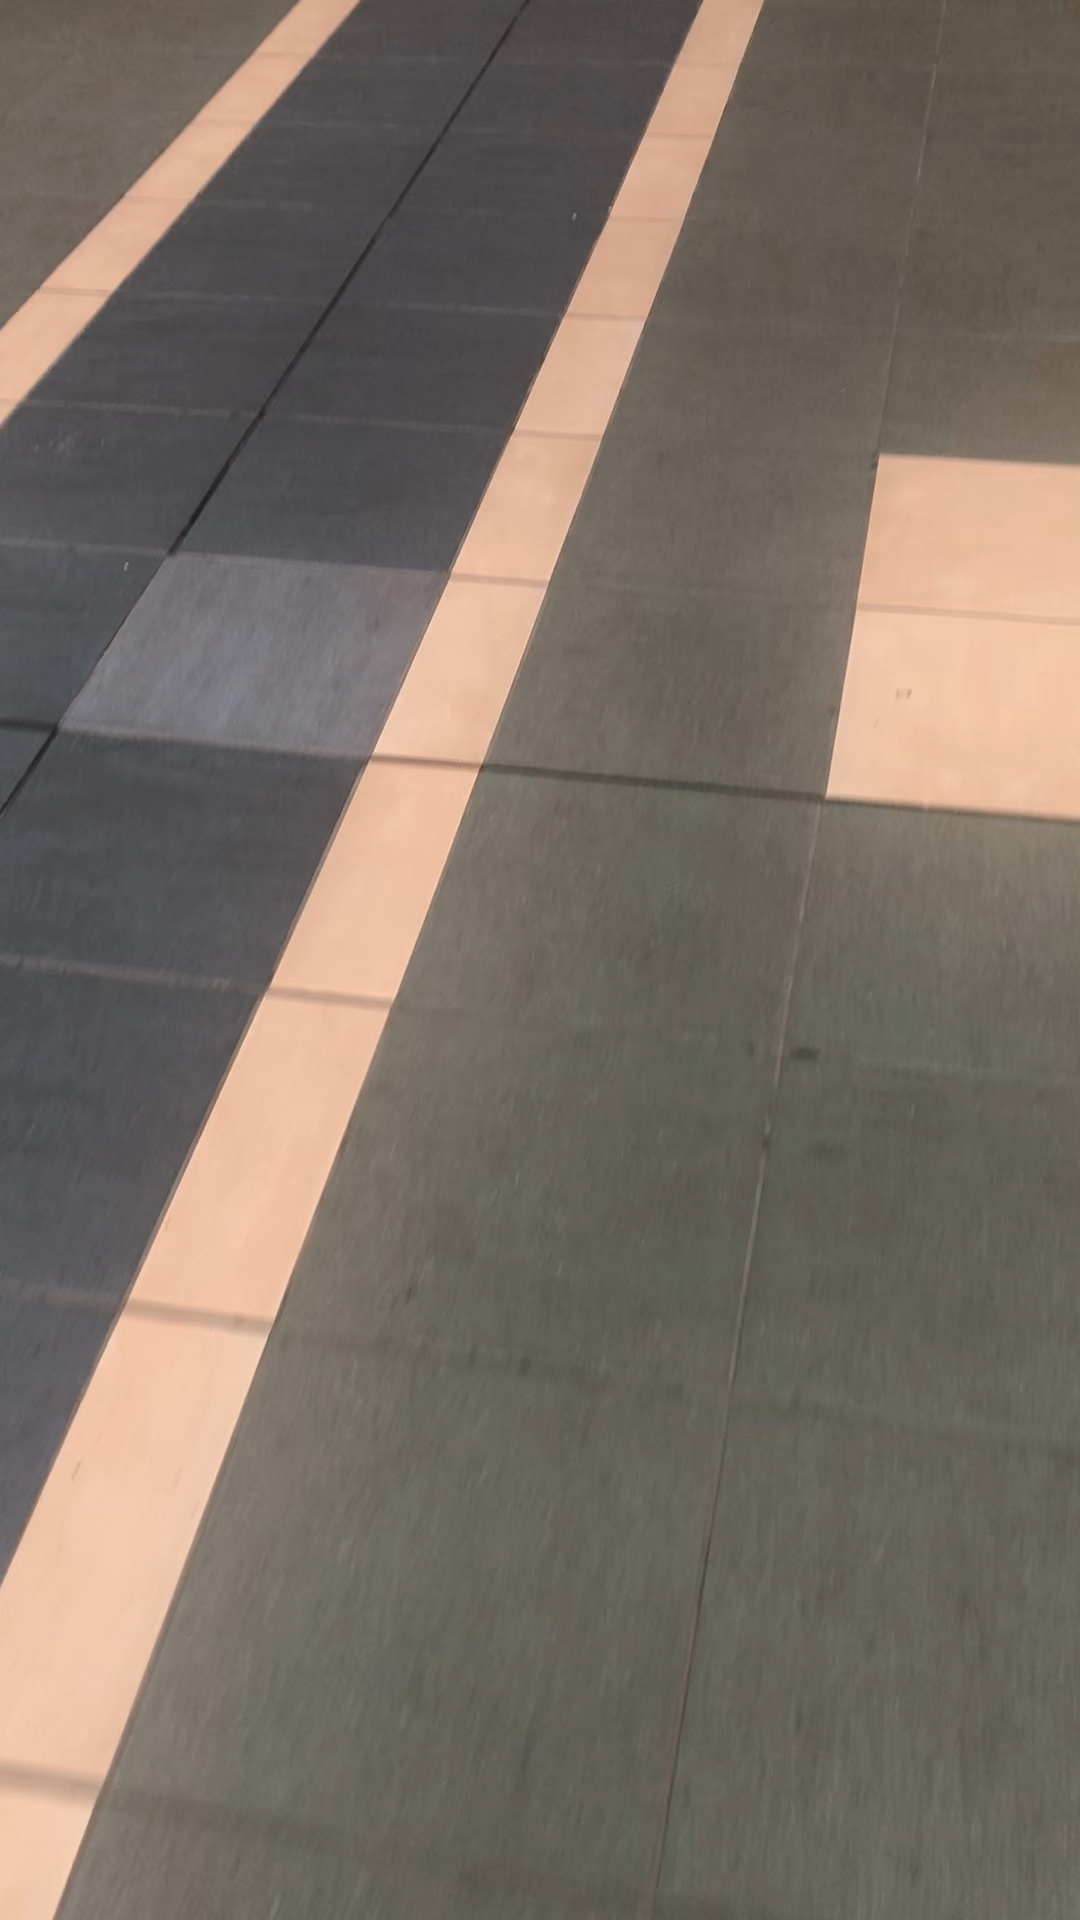Stain: (773, 1005, 870, 1188)
